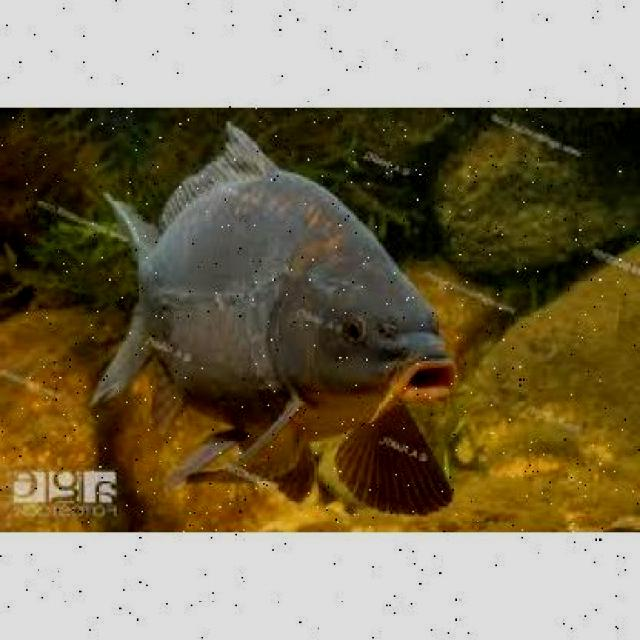ikan-mas: (94, 127, 454, 470)
